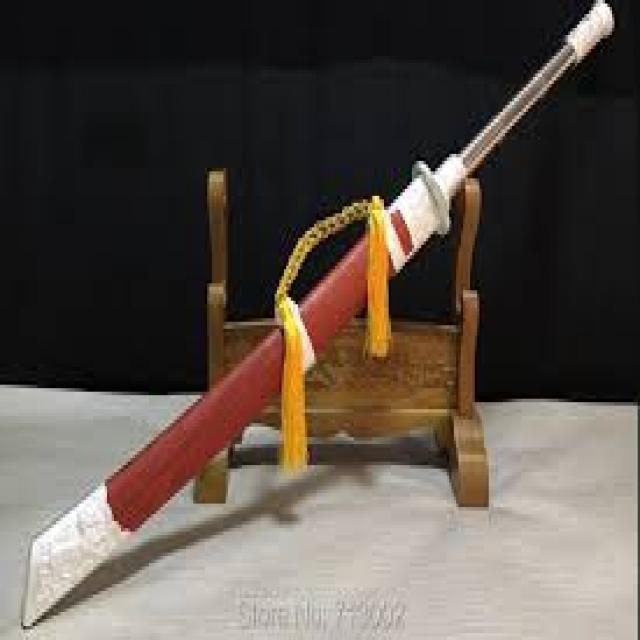long sword: (19, 10, 616, 630)
